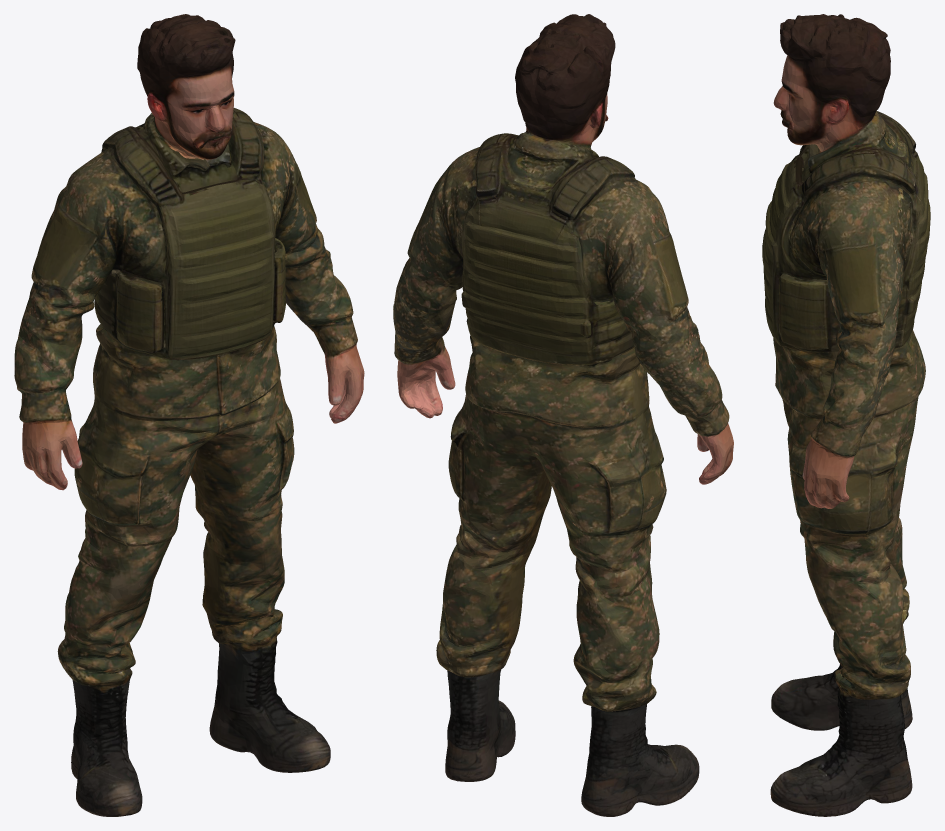
File: visitante_real_hq.glb
3 views of the same model, side by side, from view 1: azimuth 30°, elevation 25°; view 2: azimuth 150°, elevation 25°; view 3: azimuth 270°, elevation 25° (orthographic). The views are drawn at different scales.
Visible parts, largest first — view 1: visitante_real.obj; view 2: visitante_real.obj; view 3: visitante_real.obj.
Boxes of the visible parts, <box> form: visitante_real.obj: <box>14,14,364,816</box>; visitante_real.obj: <box>393,14,733,816</box>; visitante_real.obj: <box>762,14,930,816</box>.
Size of the model in its own units: 0.9161 by 1.99 by 0.4085.
Materials: 1 (1 with a texture image).
